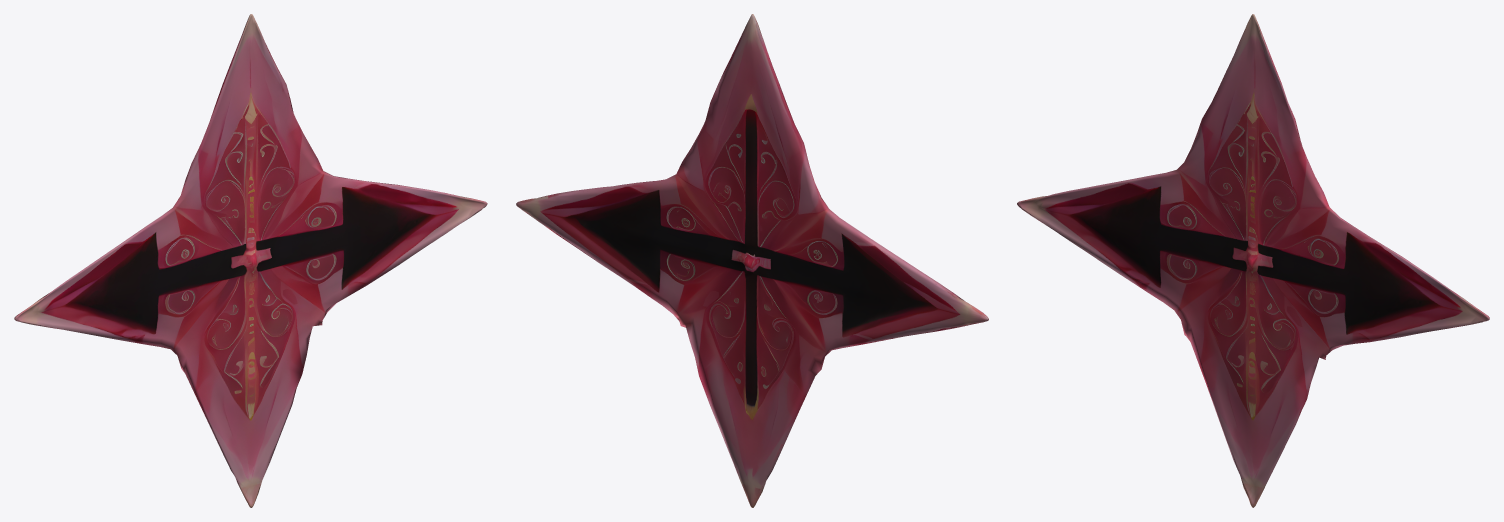
The model's file is 2Sides.glb.
3 views of the same model, side by side, from view 1: azimuth 30°, elevation 25°; view 2: azimuth 150°, elevation 25°; view 3: azimuth 330°, elevation 25° (orthographic).
Visible parts, largest first — view 1: tripo_node_968bfa46; view 2: tripo_node_968bfa46; view 3: tripo_node_968bfa46.
Boxes of the visible parts, x1,y1,x2,y2 form: tripo_node_968bfa46: (14, 14, 487, 507); tripo_node_968bfa46: (516, 14, 988, 507); tripo_node_968bfa46: (1017, 14, 1489, 507).
Bounding box in the file's own units: 99.79 × 99.65 × 3.22.
1 material, 1 textured.
